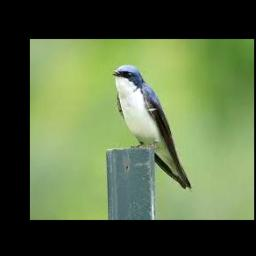Swallow: (110, 65, 192, 190)
